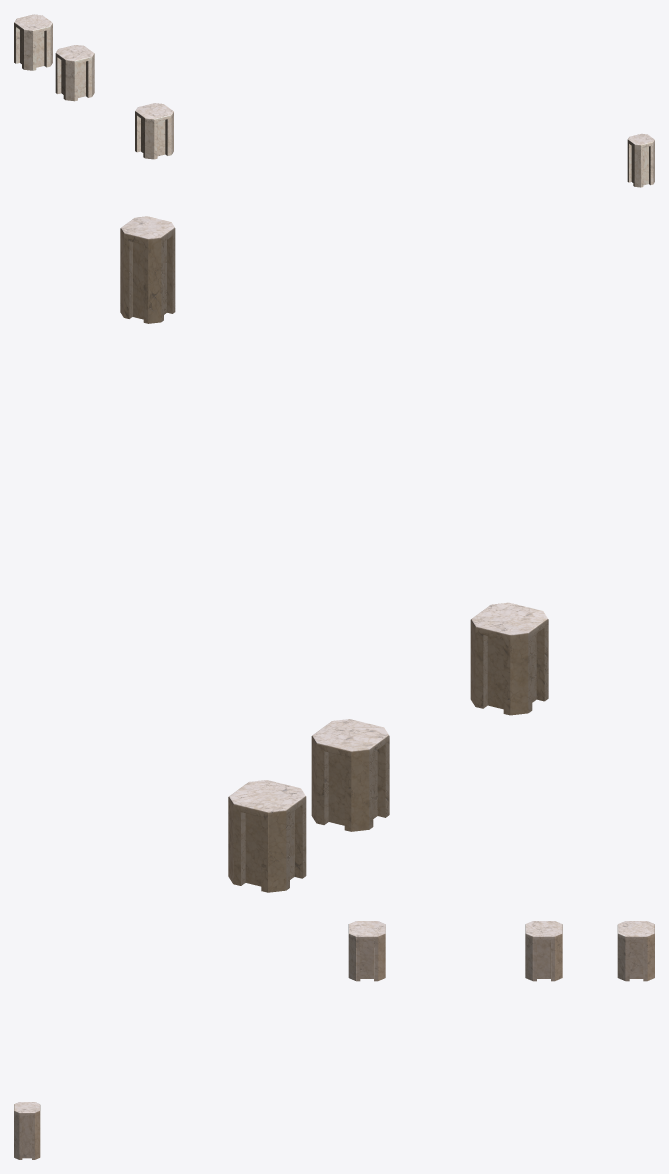
Rendered from Loft_Venue_Textures.gltf.
3 renders of one model, top to bottom at view 1: azimuth 30°, elevation 25°; view 2: azimuth 150°, elevation 25°; view 3: azimuth 270°, elevation 25°, orthographic. The views are drawn at different scales.
Visible parts, largest first — view 1: pedestal; view 2: pedestal; view 3: pedestal.
Boxes of the visible parts, x1,y1,x2,y2 form: pedestal: [14, 14, 654, 187]; pedestal: [120, 216, 548, 892]; pedestal: [14, 921, 654, 1159].
Bounding box in the file's own units: 21.13 × 2.4 × 29.43.
1 material, 1 textured.
